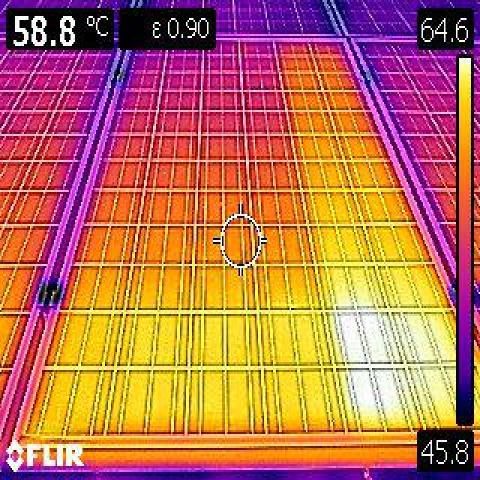fault: (273, 37, 480, 432)
